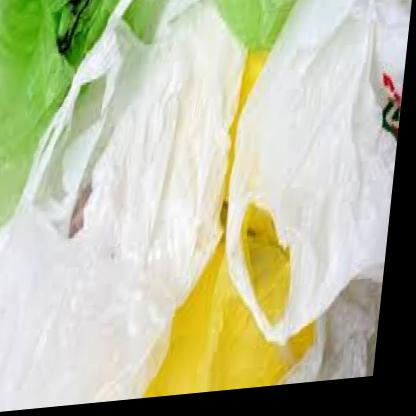Plastic: (0, 0, 411, 411)
